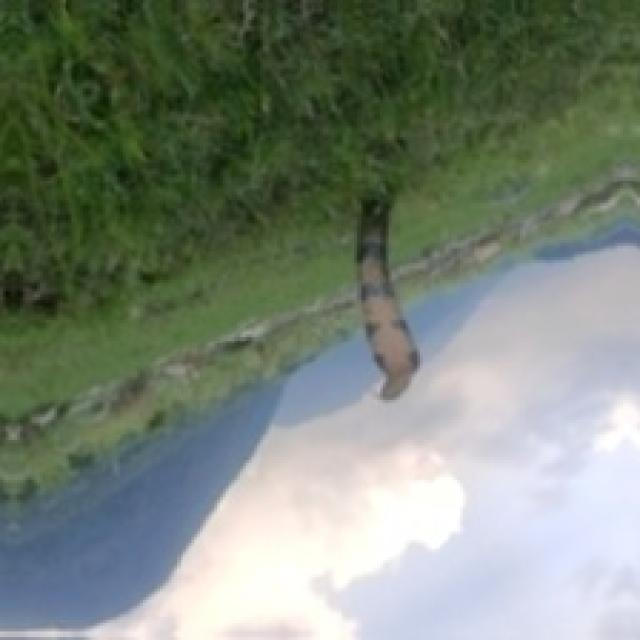king cobra: (357, 200, 417, 397)
